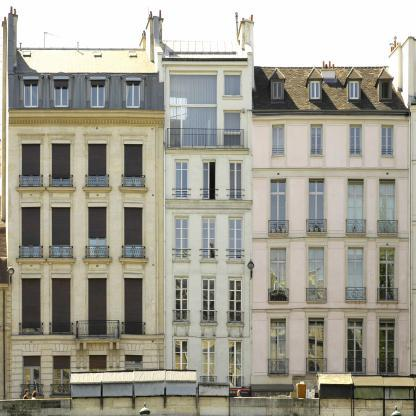Balcony: (167, 128, 244, 155)
Blind: (89, 278, 107, 335), (53, 278, 71, 335), (22, 278, 40, 335), (125, 278, 143, 334), (124, 207, 143, 245), (22, 207, 40, 246), (52, 207, 70, 245), (52, 144, 70, 178), (124, 144, 143, 176), (88, 144, 107, 176), (88, 207, 107, 238), (22, 144, 40, 176), (90, 355, 107, 369), (54, 356, 70, 368), (24, 356, 40, 366), (125, 355, 142, 361), (54, 81, 68, 87), (90, 81, 105, 86), (24, 81, 38, 84), (126, 81, 140, 84)
Building Outline: (8, 10, 411, 416)
Cornice: (20, 344, 43, 352), (85, 72, 111, 79), (51, 344, 73, 352), (87, 343, 108, 351), (123, 343, 144, 351), (48, 72, 75, 78), (120, 73, 146, 79), (18, 72, 44, 78), (266, 237, 291, 243), (124, 272, 143, 279), (304, 307, 330, 312), (375, 237, 400, 242), (304, 237, 329, 242), (343, 237, 368, 242), (21, 273, 41, 279), (51, 273, 71, 279), (17, 133, 45, 137), (47, 133, 75, 137), (120, 133, 147, 137), (123, 202, 144, 207), (374, 308, 400, 312), (343, 308, 369, 312), (87, 273, 107, 278), (266, 309, 291, 313), (21, 202, 41, 207), (21, 139, 41, 144), (51, 139, 71, 144), (88, 139, 108, 144), (124, 139, 144, 144), (88, 202, 108, 207), (51, 202, 71, 207), (83, 133, 111, 136)
Door: (169, 105, 182, 148)
Facade: (9, 110, 411, 415)
Floor: (8, 119, 165, 200), (252, 310, 410, 383), (8, 200, 165, 273), (11, 345, 165, 416), (11, 273, 165, 344), (252, 174, 410, 242), (252, 242, 410, 310), (252, 118, 410, 174), (165, 272, 252, 338), (165, 210, 252, 272), (165, 338, 252, 395), (165, 154, 252, 210)
Floor Slab: (252, 304, 410, 310), (252, 168, 410, 174), (252, 112, 410, 118), (8, 194, 165, 200), (8, 113, 165, 119), (252, 378, 410, 383), (252, 237, 410, 242), (8, 268, 165, 273), (11, 339, 165, 344), (165, 148, 252, 154), (165, 204, 252, 210), (165, 266, 252, 272), (165, 389, 252, 395), (165, 332, 252, 338)
Ground Floor: (252, 383, 410, 416), (165, 395, 252, 416)
Roof: (252, 68, 406, 110), (13, 49, 157, 72), (162, 41, 247, 58)
Sill: (74, 338, 121, 350), (226, 323, 244, 337), (119, 257, 149, 265), (172, 322, 190, 335), (200, 323, 217, 336), (118, 186, 149, 193), (46, 186, 77, 193), (82, 186, 113, 193), (82, 258, 113, 265), (46, 258, 76, 265), (16, 258, 46, 265), (15, 187, 46, 193), (268, 301, 289, 305), (377, 374, 398, 378), (268, 233, 288, 237), (346, 300, 366, 304), (268, 374, 288, 378), (306, 373, 326, 377), (172, 259, 190, 263), (377, 233, 398, 236), (306, 232, 327, 235), (345, 233, 366, 236), (377, 301, 398, 304), (306, 301, 327, 304), (345, 374, 366, 377), (200, 260, 218, 263), (226, 260, 244, 263), (272, 155, 285, 158), (381, 155, 394, 158), (349, 155, 363, 157), (310, 155, 323, 157)
Top Floor: (165, 61, 252, 154), (252, 68, 404, 118), (8, 71, 165, 119)
Window: (170, 71, 217, 104), (182, 105, 217, 148), (22, 278, 40, 335), (89, 278, 107, 335), (53, 278, 71, 335), (125, 278, 143, 334), (124, 207, 143, 257), (88, 207, 107, 257), (52, 207, 70, 257), (22, 207, 40, 257), (379, 318, 395, 374), (348, 318, 364, 373), (380, 179, 396, 233), (270, 248, 286, 301), (308, 247, 324, 300), (309, 318, 324, 374), (271, 319, 286, 374), (88, 144, 107, 187), (124, 144, 143, 187), (271, 179, 286, 233), (309, 178, 324, 232), (348, 179, 363, 232), (380, 247, 395, 300), (348, 247, 363, 300), (22, 144, 40, 187), (52, 144, 70, 187), (22, 356, 41, 396), (52, 356, 71, 396), (89, 355, 107, 395), (125, 355, 142, 395), (174, 339, 188, 387), (228, 340, 242, 388), (224, 110, 241, 148), (228, 277, 242, 323), (174, 277, 188, 322), (202, 340, 215, 388), (202, 217, 216, 260), (202, 277, 215, 322), (229, 160, 243, 200), (202, 160, 216, 200), (229, 217, 242, 260), (175, 217, 188, 260), (175, 159, 188, 199), (224, 71, 241, 96), (381, 125, 394, 156), (272, 124, 284, 156), (350, 124, 362, 155), (311, 124, 323, 155), (126, 82, 140, 108), (91, 82, 105, 108), (24, 81, 38, 107), (54, 81, 68, 107), (310, 81, 320, 99), (349, 81, 359, 99), (381, 81, 390, 99), (273, 81, 282, 99)
dont: (0, 369, 416, 416)
